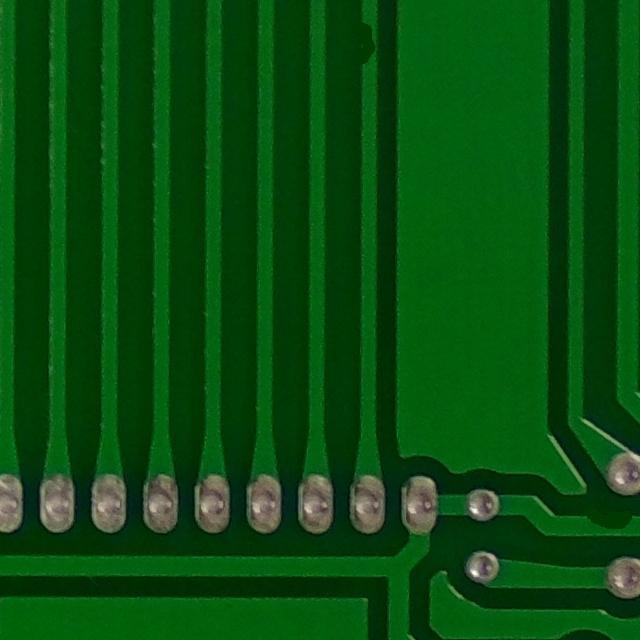mouse_bite: (338, 6, 391, 83)
